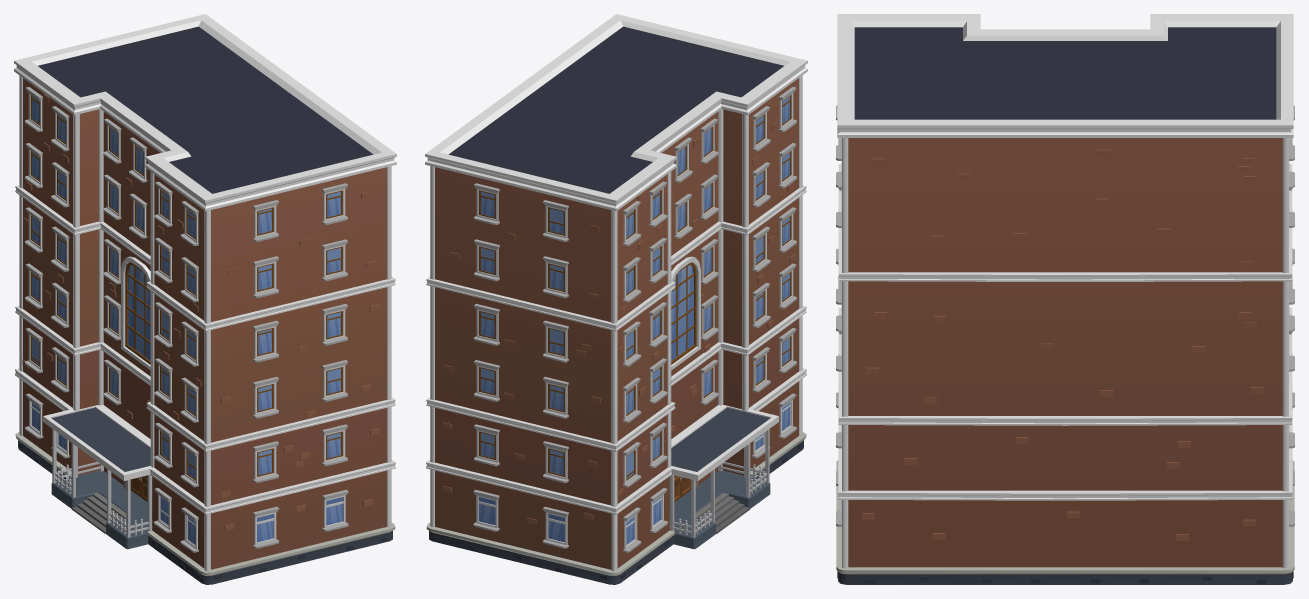
The model's file is Building_5_4_I.fbx.
3 renders of one model, left to right at view 1: azimuth 30°, elevation 25°; view 2: azimuth 150°, elevation 25°; view 3: azimuth 270°, elevation 25°, orthographic. The views are drawn at different scales.
Visible parts, largest first — view 1: Building_5_4_I; view 2: Building_5_4_I; view 3: Building_5_4_I.
Boxes of the visible parts, bbox=[...] form: Building_5_4_I: bbox=[14, 14, 396, 584]; Building_5_4_I: bbox=[425, 14, 807, 584]; Building_5_4_I: bbox=[836, 14, 1294, 584].
Size of the model in its own units: 1251 by 2109 by 1908.
